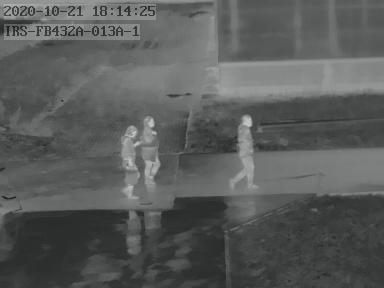person: (229, 114, 259, 190), (118, 122, 141, 200), (138, 114, 160, 184)
